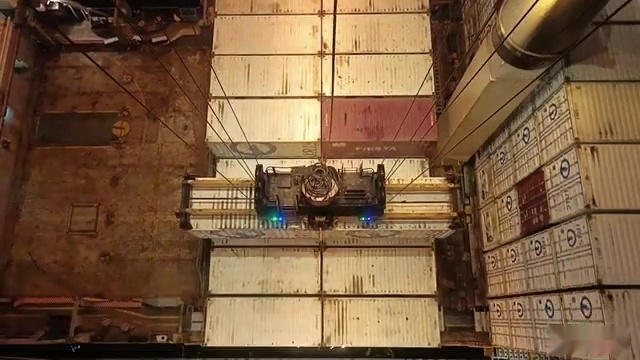container: (172, 174, 464, 236), (205, 97, 441, 161), (202, 294, 444, 350), (209, 195, 436, 245), (208, 248, 438, 296), (205, 54, 433, 95), (210, 13, 436, 53)
guide_mark: (110, 343, 543, 360), (66, 354, 561, 360)
spreader: (175, 160, 468, 237)
target_slot: (177, 159, 477, 242)
